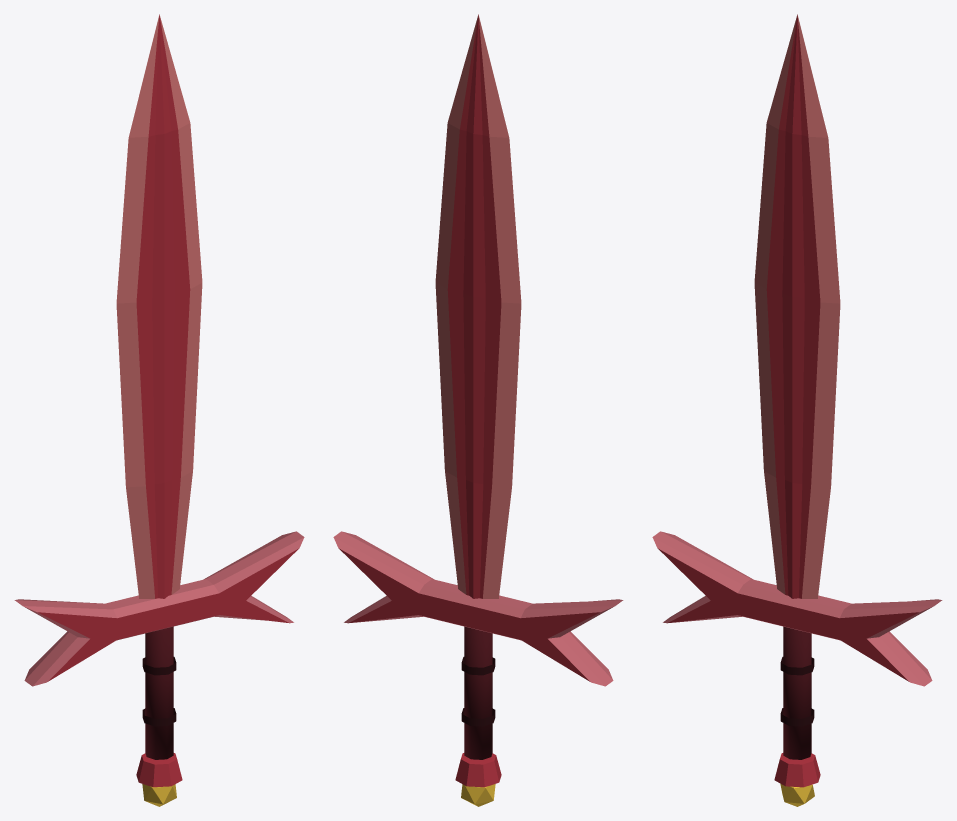
The model's file is crimtane_shortsword.glb.
3 views of the same model, side by side, from view 1: azimuth 30°, elevation 25°; view 2: azimuth 150°, elevation 25°; view 3: azimuth 330°, elevation 25° (orthographic).
Visible parts, largest first — view 1: crimtane_shortsword_v0; view 2: crimtane_shortsword_v0; view 3: crimtane_shortsword_v0.
Part boxes in pixels (bbox=[...]): crimtane_shortsword_v0: bbox=[14, 14, 304, 806]; crimtane_shortsword_v0: bbox=[333, 14, 623, 806]; crimtane_shortsword_v0: bbox=[652, 14, 942, 806].
Size of the model in its own units: 0.462 by 1.24 by 0.068.
